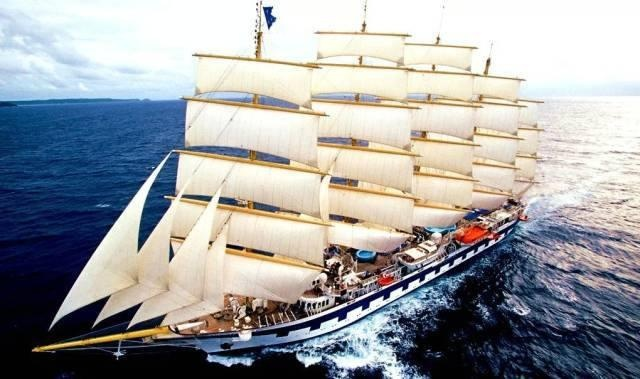fanchuan: (29, 1, 556, 366)
